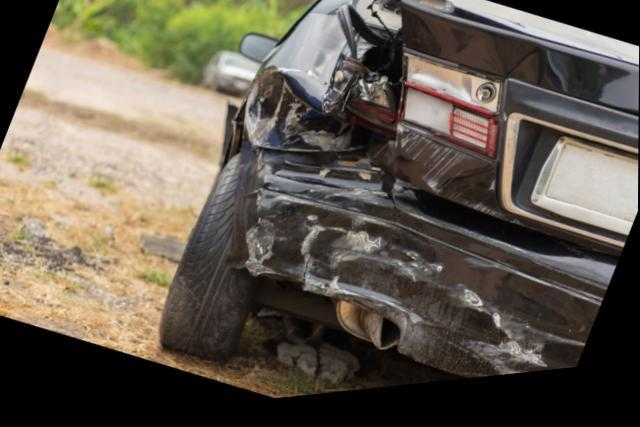crack: (379, 181, 418, 240)
dent: (244, 76, 323, 152)
lamp broken: (337, 45, 501, 174)
scratch: (242, 206, 588, 388), (395, 137, 513, 231)
